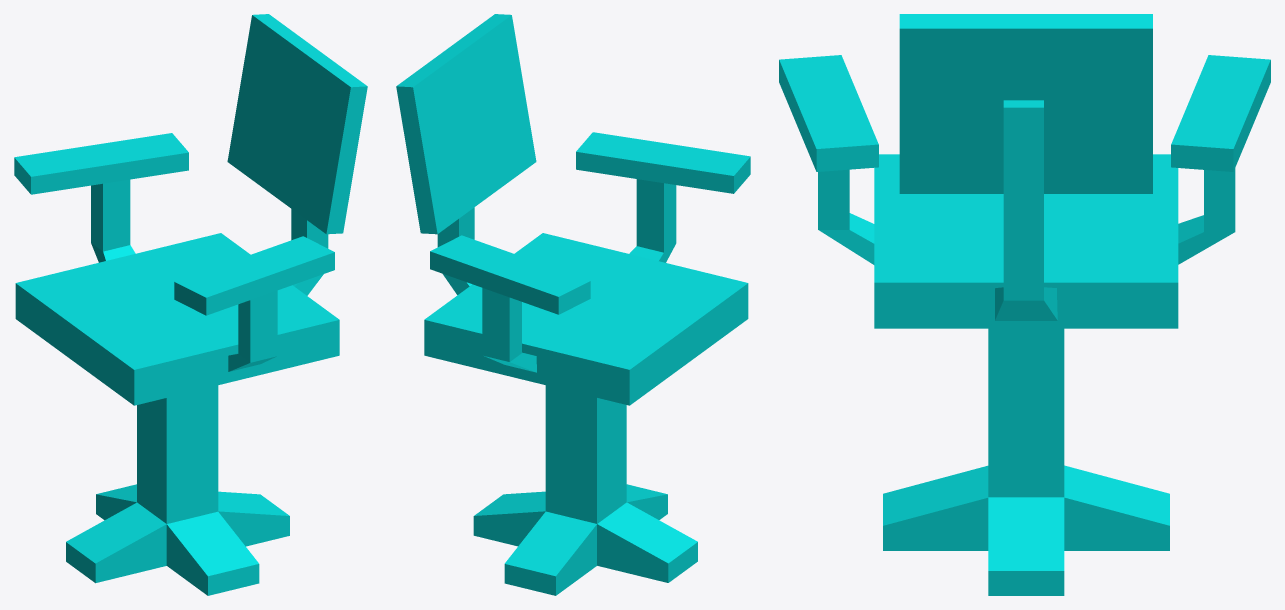
The model's file is chair.fbx.
The picture shows the model from 3 angles, left to right: view 1: azimuth 30°, elevation 25°; view 2: azimuth 150°, elevation 25°; view 3: azimuth 270°, elevation 25°; orthographic projection. The views are drawn at different scales.
Parts seen in each view (by area): view 1: chair; view 2: chair; view 3: chair.
Part boxes in pixels (x1,y1,x2,y2): chair: [14, 14, 367, 595]; chair: [396, 14, 750, 595]; chair: [779, 14, 1270, 595].
Bounding box in the file's own units: 2.86 × 5.22 × 3.88.
